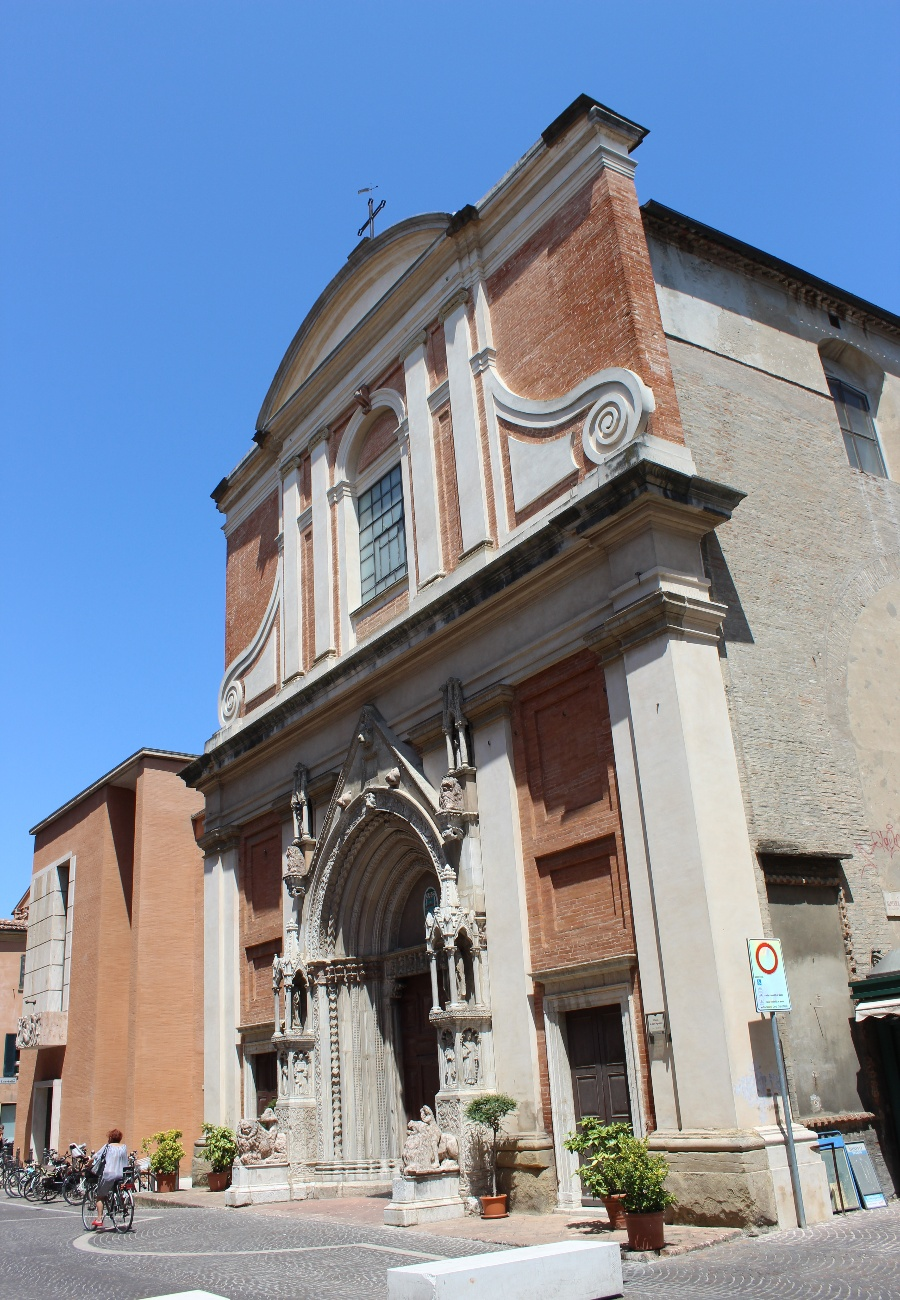Chiesa San Agostino: (204, 90, 731, 1234)
